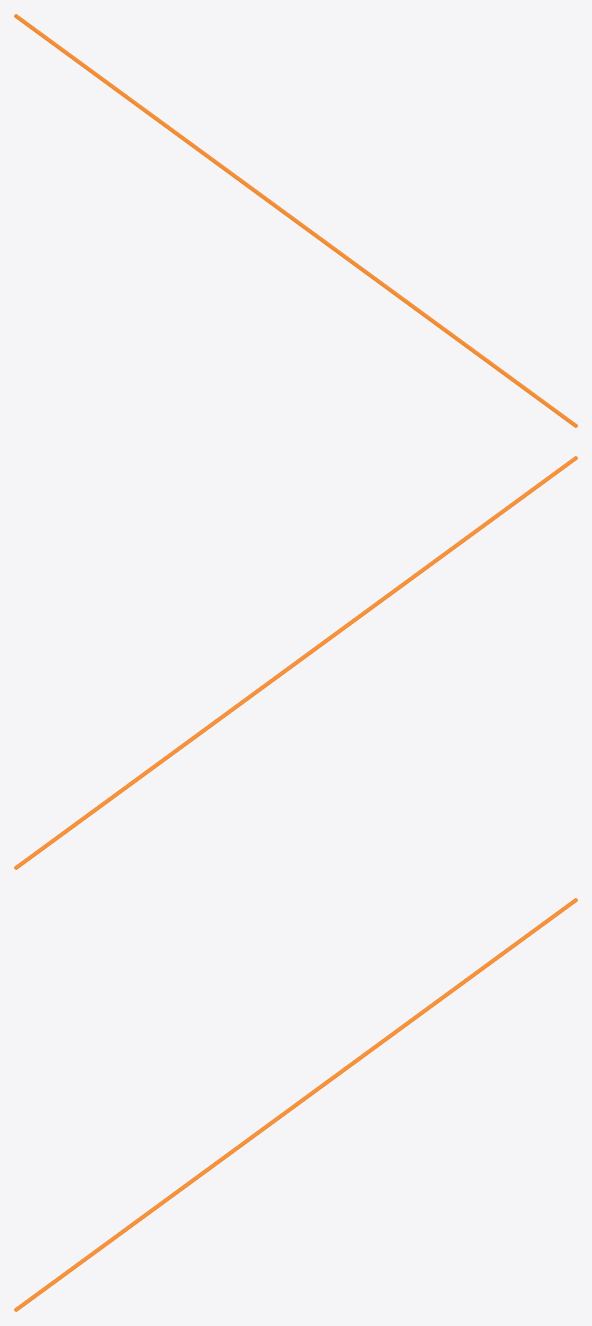
3 views of the same model, one above another, from view 1: azimuth 30°, elevation 25°; view 2: azimuth 150°, elevation 25°; view 3: azimuth 330°, elevation 25° (orthographic).
Parts seen in each view (by area): view 1: BezierCurve.002; view 2: BezierCurve.002; view 3: BezierCurve.002.
Boxes of the visible parts, box(x1,y1,x2,y2) form: BezierCurve.002: box(14, 14, 577, 427); BezierCurve.002: box(14, 456, 577, 869); BezierCurve.002: box(14, 898, 577, 1311).
Size of the model in its own units: 0.1 by 0.1 by 26.86.
